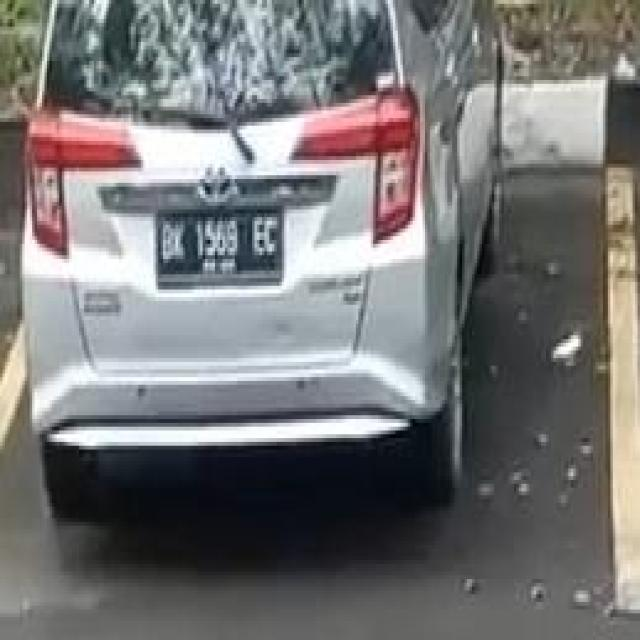Car: (20, 0, 507, 549)
